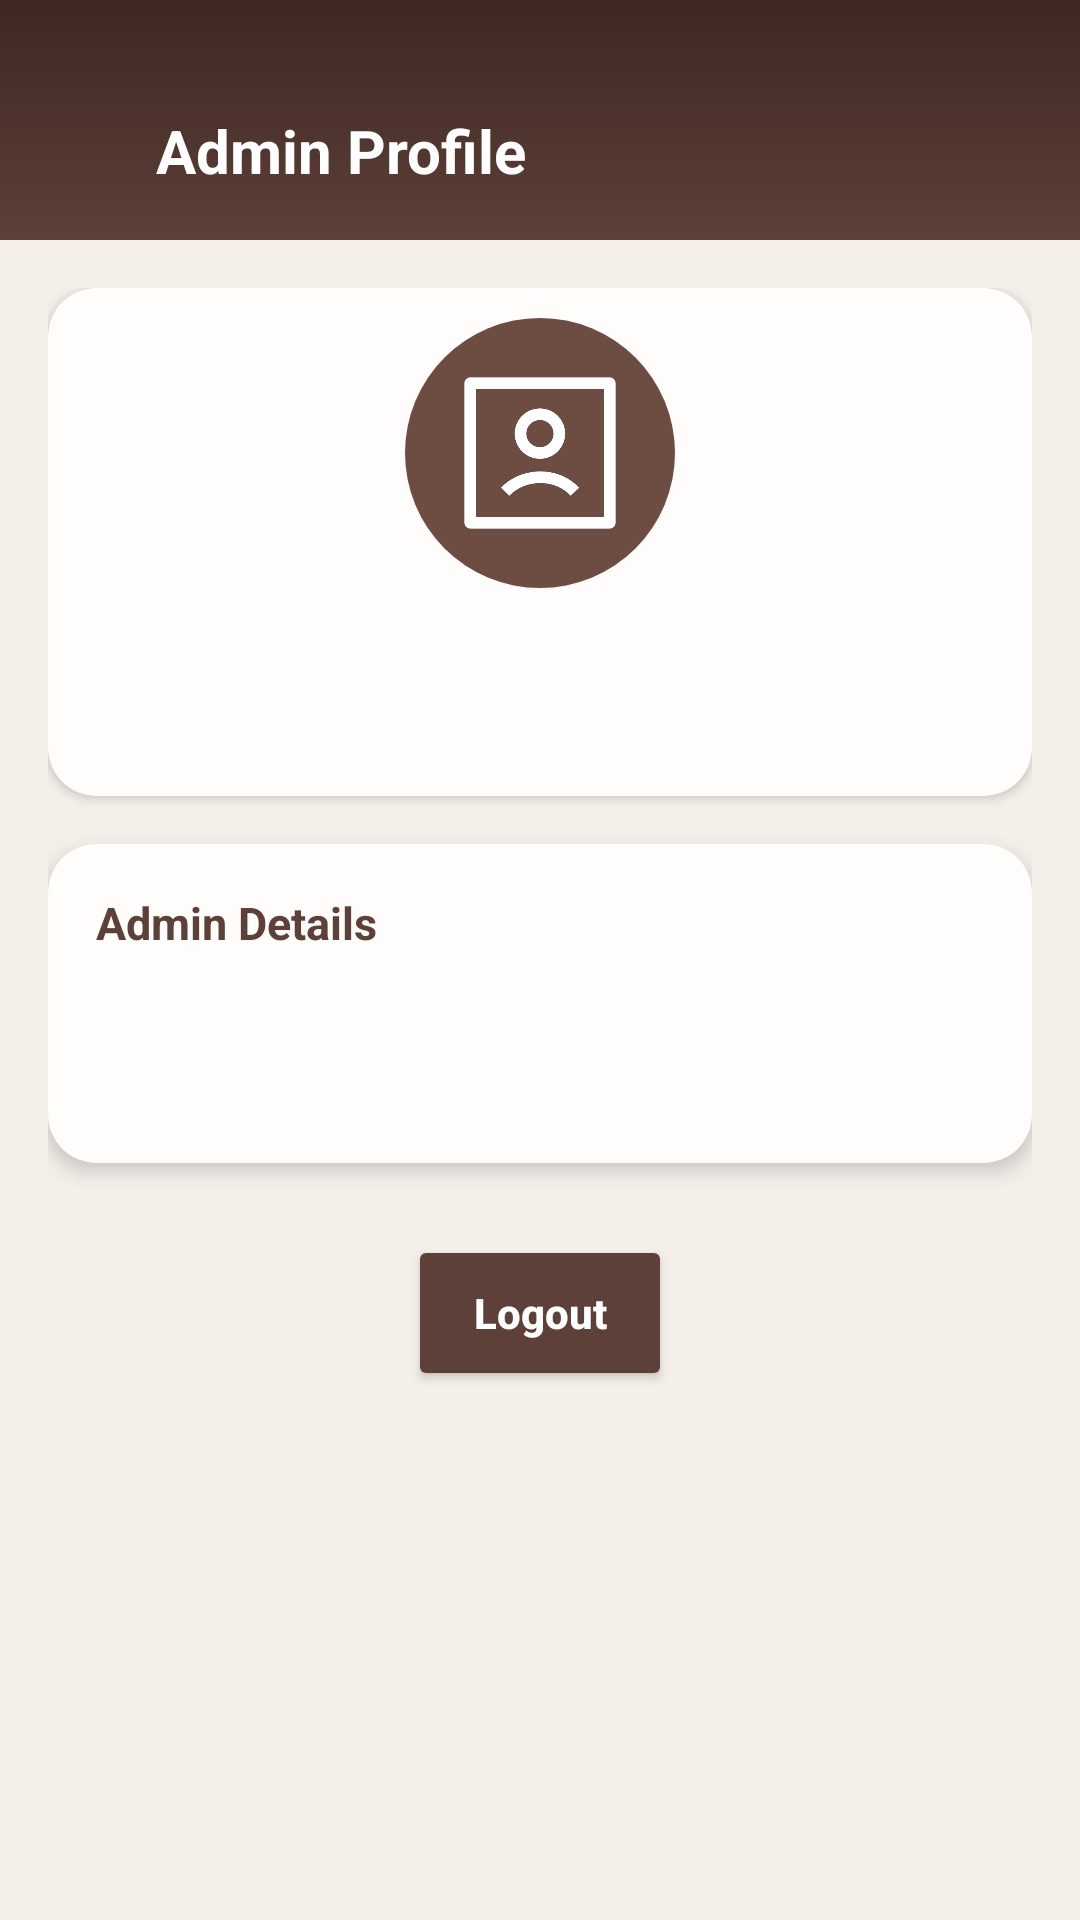

Icons on this 1080px x 1920px Android screen, each with the point to tap as (x=x, y=y):
person profile: (x=540, y=453)
